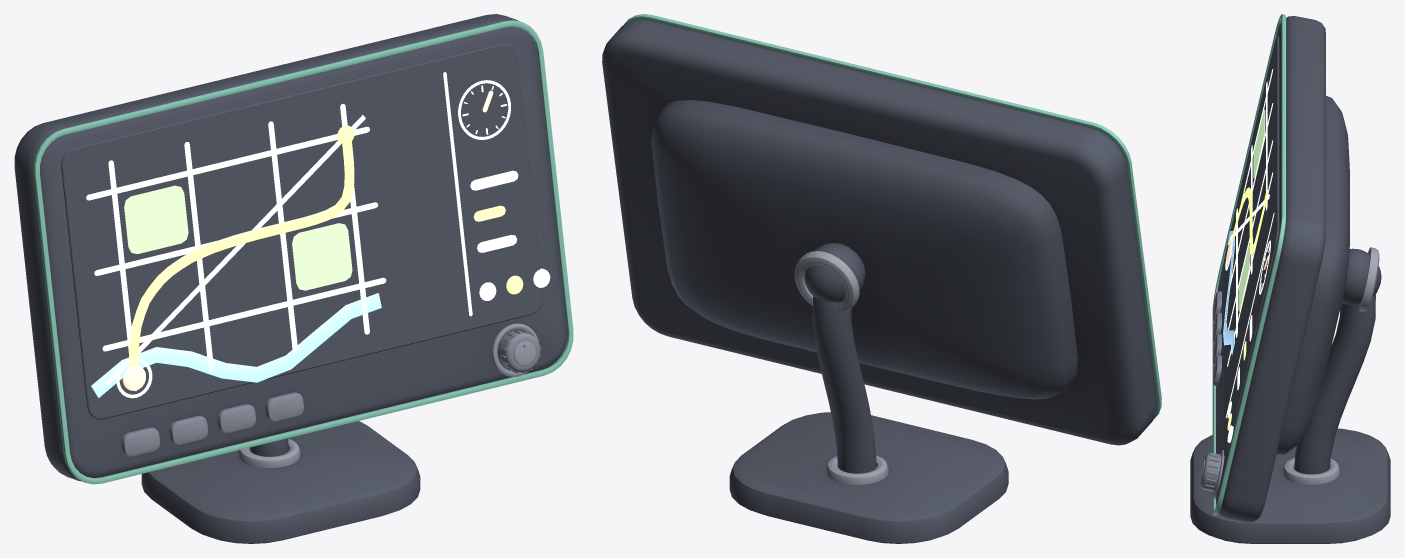
The model's file is car-navigation-screen.glb.
The picture shows the model from 3 angles, left to right: view 1: azimuth 30°, elevation 25°; view 2: azimuth 150°, elevation 25°; view 3: azimuth 270°, elevation 25°; orthographic projection. The views are drawn at different scales.
Parts seen in each view (by area): view 1: car-navigation-screen_display_light, car-navigation-screen_body; view 2: car-navigation-screen_body; view 3: car-navigation-screen_body, car-navigation-screen_display_light.
Part boxes in pixels (x1,y1,x2,y2): car-navigation-screen_display_light: [61, 43, 550, 419]; car-navigation-screen_body: [14, 14, 573, 543]; car-navigation-screen_body: [602, 14, 1161, 543]; car-navigation-screen_body: [1190, 14, 1390, 543]; car-navigation-screen_display_light: [1223, 36, 1279, 457].
Size of the model in its own units: 0.255 by 0.2001 by 0.095.
Materials: 7 (1 with a texture image).
